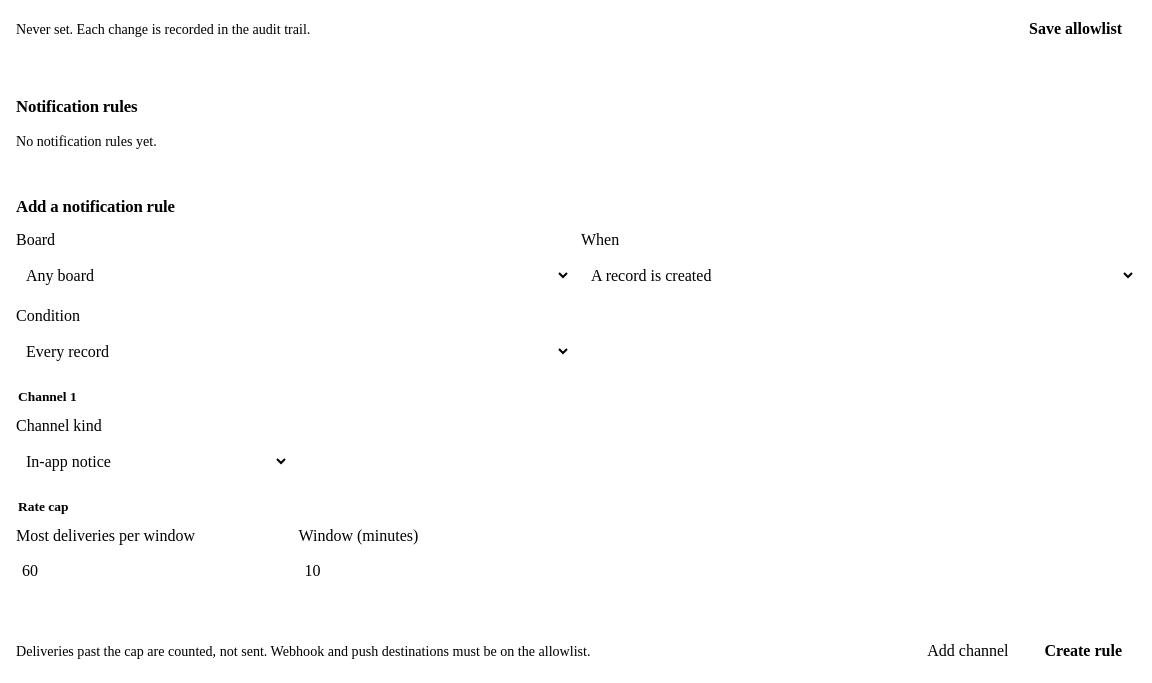
sends a schedule interval only for scheduled rules and checks the rate cap before sending
The image size is (1152, 683).
(page scrolled)
Replace the text in the field labelled "Most deliveries per window" with "0" at (152, 571), box 16,549 -> 288,593
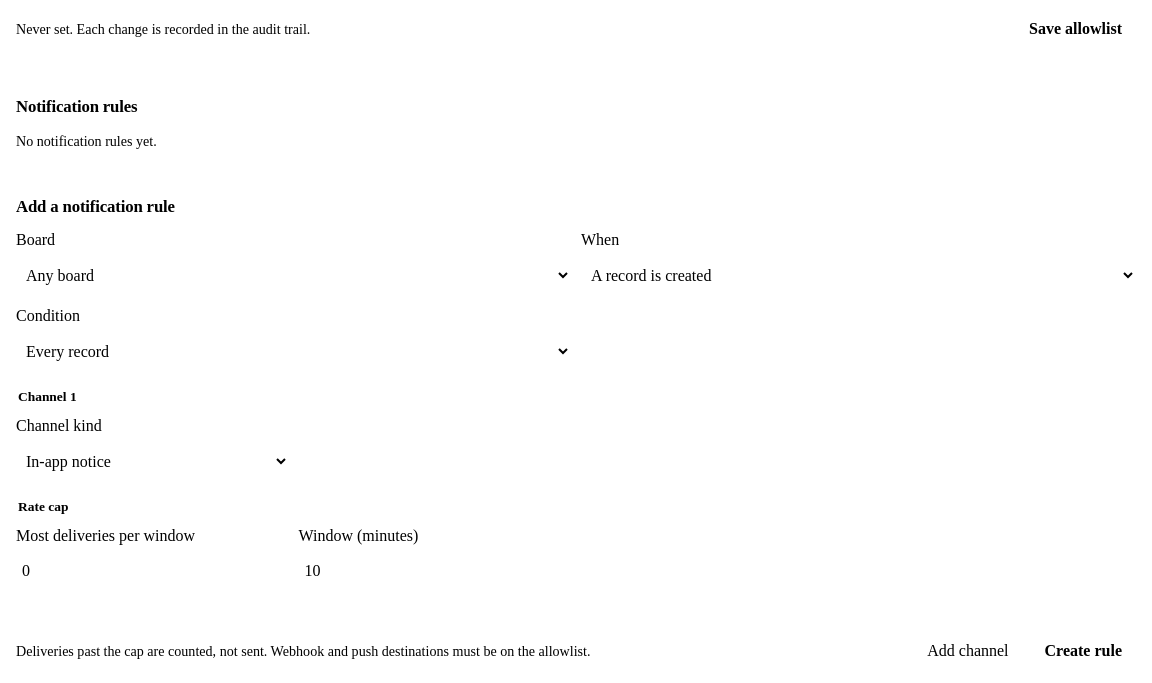
Click the button "Create rule" at (1083, 651), box 1030,629 -> 1136,673
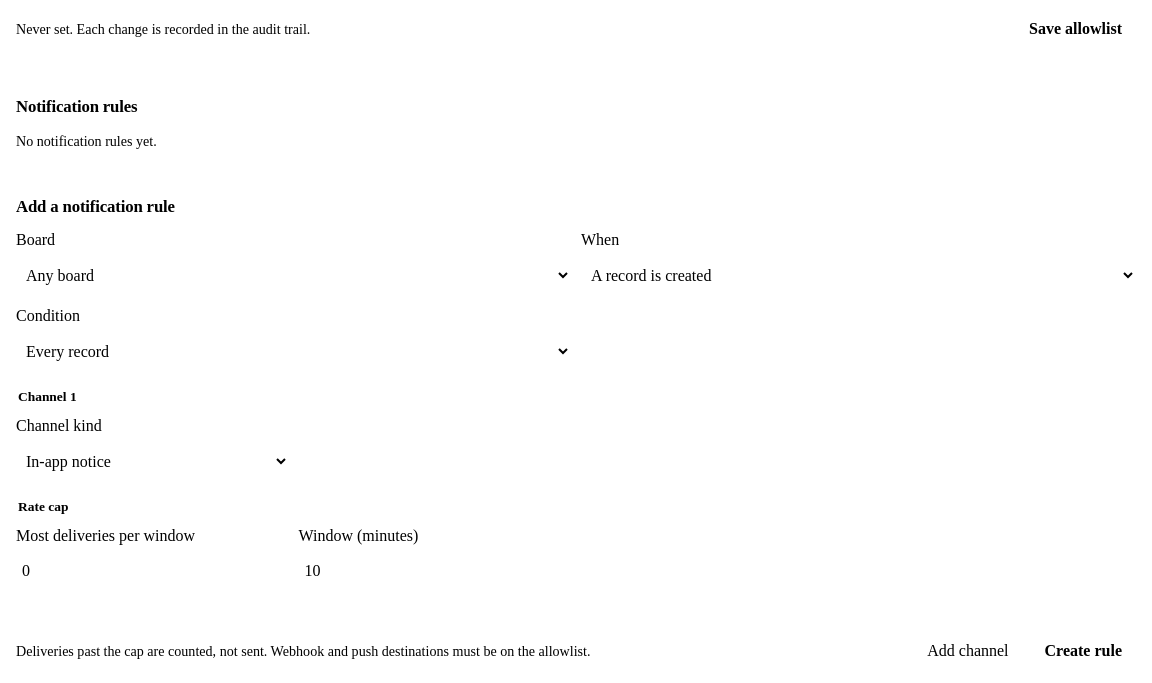
Replace the text in the field labelled "Most deliveries per window" with "60" at (152, 571), box 16,549 -> 288,593
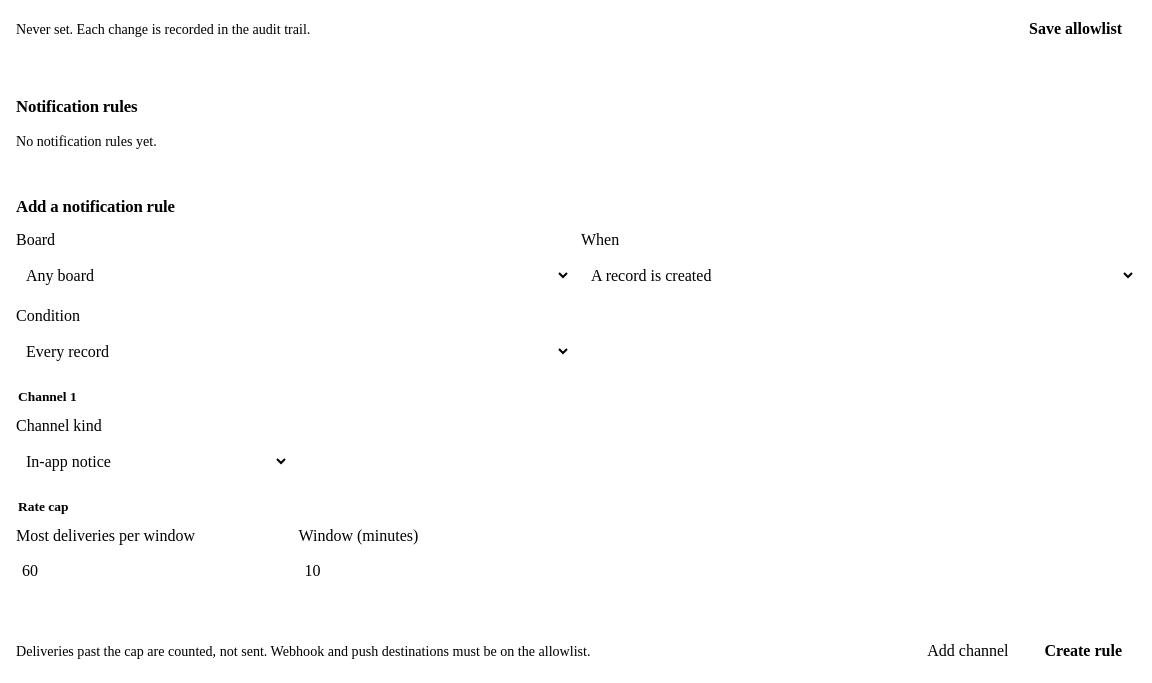
Select "On a schedule" in the dropdown labelled "When" at (858, 275), box 581,253 -> 1136,297
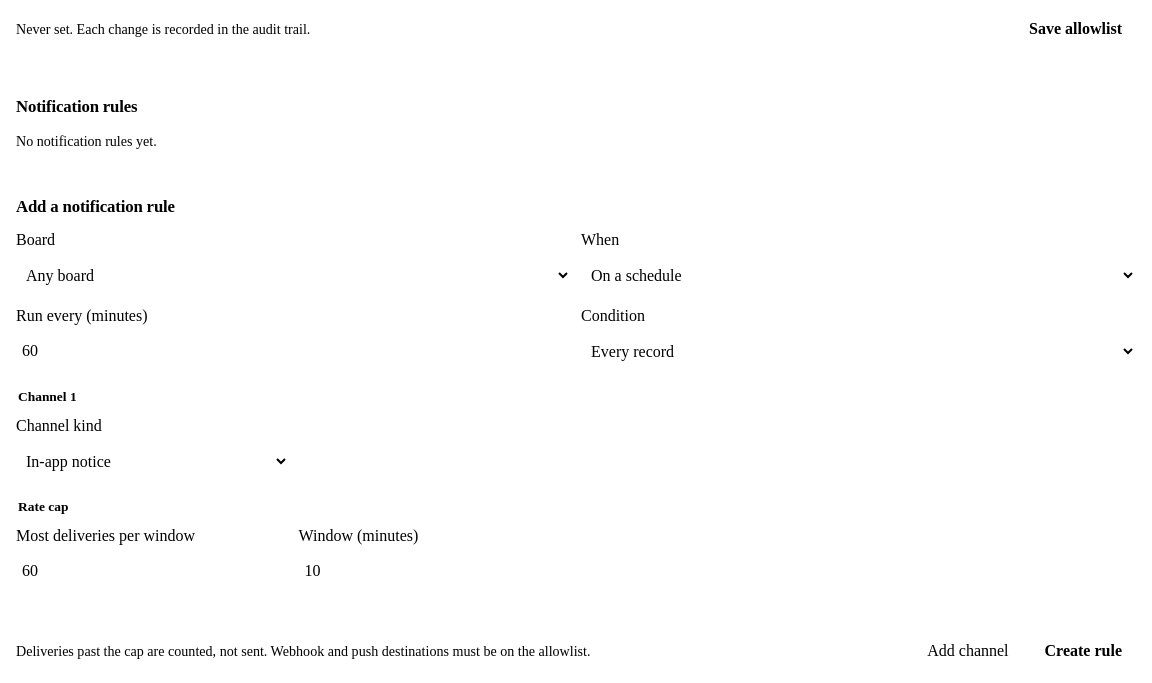
Replace the text in the field labelled "Run every (minutes)" with "15" at (294, 351), box 16,329 -> 571,373
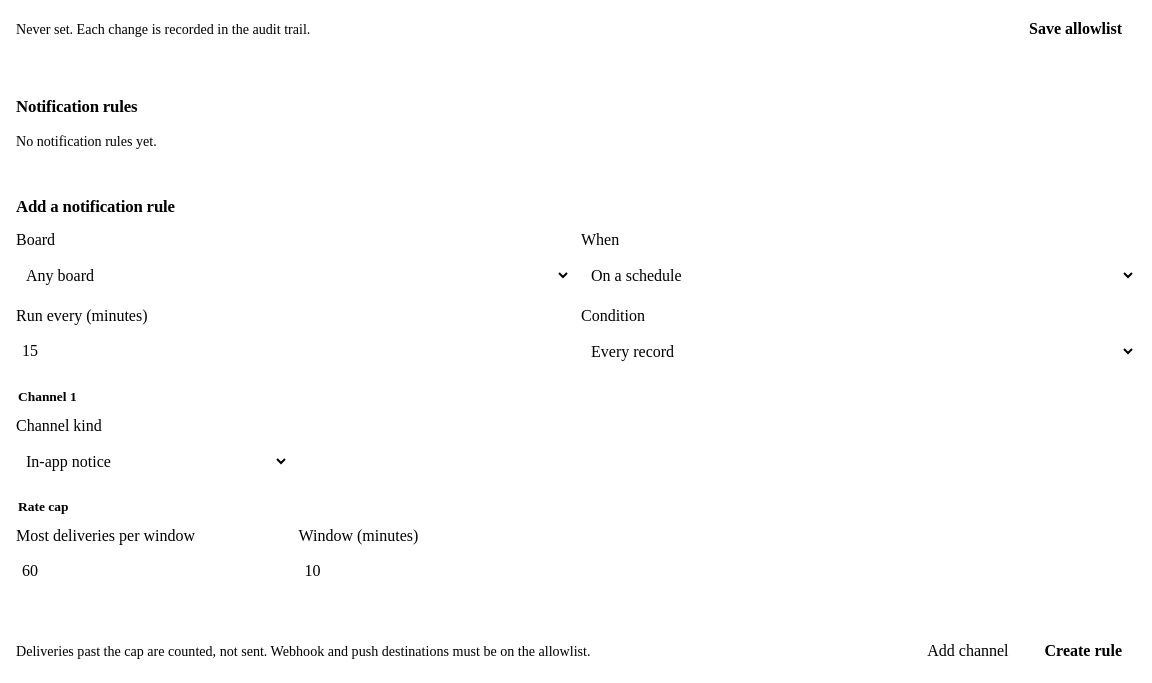
Click the button "Create rule" at (1083, 651), box 1030,629 -> 1136,673
(page scrolled)
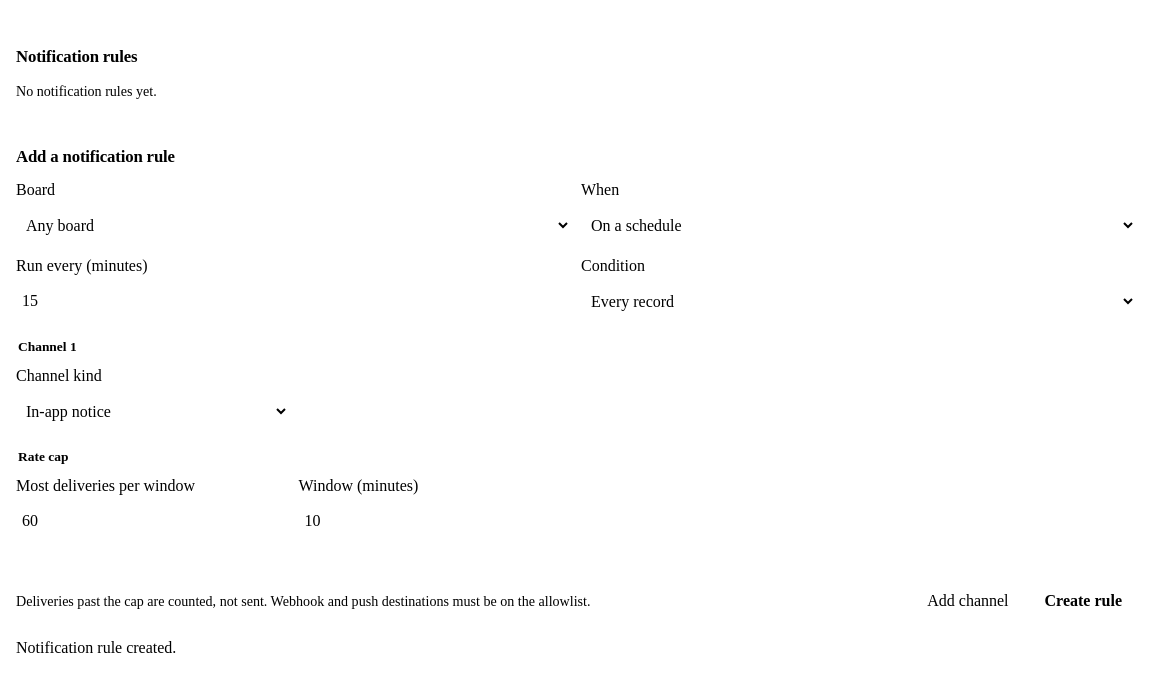
Now the text "Notification rule created." is shown, box 16,639 -> 176,656
